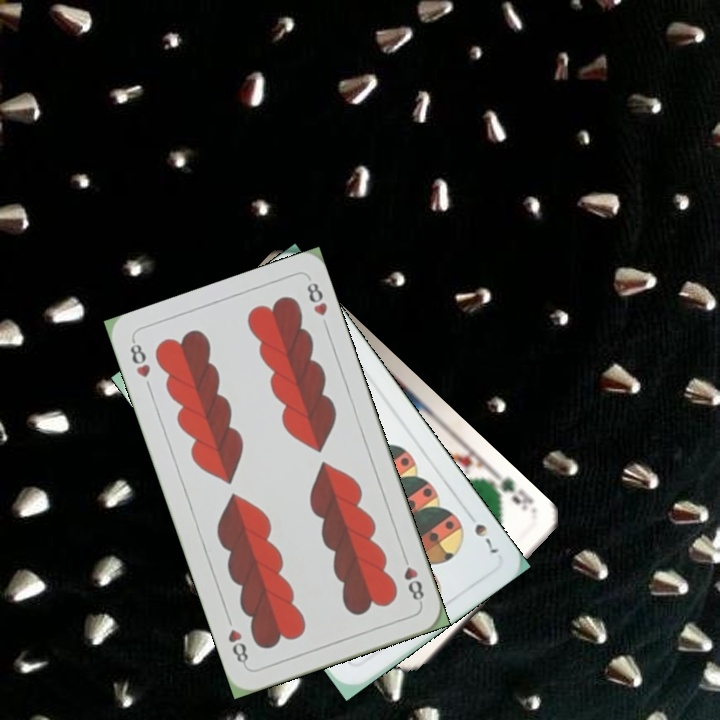GK: (486, 473, 537, 514)
H8: (398, 550, 427, 607), (126, 337, 153, 381)
S7: (461, 507, 502, 557)
